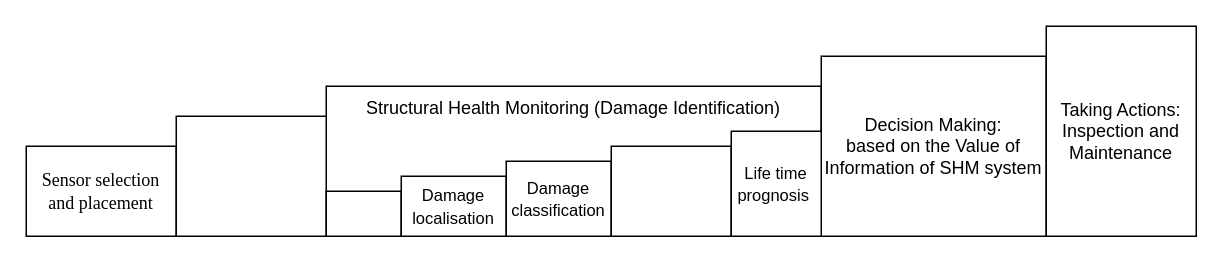
Some shapes in this 1223 by 263 pixel diagram are drawn without their labels. Here are the shapes that lost their labels. From the top down, the centre of each, then its label:
pixel 250 175: Data acquisition and management
pixel 670 190: Damage quantification
pixel 363 213: Damage existence
